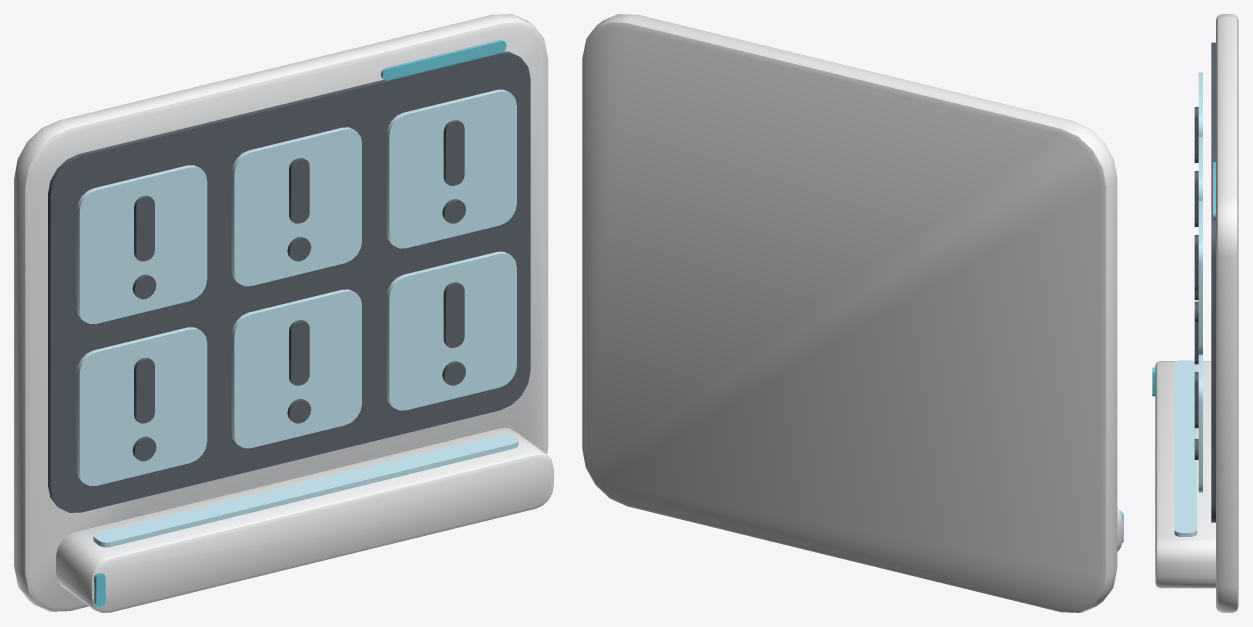
The model's file is SM_IncHoloPanel.fbx.
The picture shows the model from 3 angles, left to right: view 1: azimuth 30°, elevation 25°; view 2: azimuth 150°, elevation 25°; view 3: azimuth 270°, elevation 25°; orthographic projection. The views are drawn at different scales.
Visible parts, largest first — view 1: IncHoloPanel, Cell0, Cell3, Cell2, Cell5, Cell1, Cell4, Warn2, Warn5, Warn0, Warn3, Warn1 (+1 smaller); view 2: IncHoloPanel; view 3: IncHoloPanel, Cell2, Cell5, Warn2, Warn5, Cell0, Cell1, Warn0, Warn1, Warn4.
Part boxes in pixels (x1=…): IncHoloPanel: x1=14, y1=14, x2=553, y2=612; Cell0: x1=76, y1=165, x2=207, y2=323; Cell3: x1=76, y1=327, x2=207, y2=486; Cell2: x1=386, y1=89, x2=516, y2=248; Cell5: x1=386, y1=251, x2=516, y2=410; Cell1: x1=231, y1=127, x2=361, y2=286; Cell4: x1=231, y1=289, x2=361, y2=448; Warn2: x1=442, y1=120, x2=465, y2=223; Warn5: x1=442, y1=282, x2=465, y2=385; Warn0: x1=132, y1=195, x2=156, y2=299; Warn3: x1=132, y1=357, x2=156, y2=461; Warn1: x1=287, y1=158, x2=311, y2=261; IncHoloPanel: x1=582, y1=14, x2=1123, y2=612; IncHoloPanel: x1=1152, y1=14, x2=1238, y2=612; Cell2: x1=1198, y1=200, x2=1202, y2=355; Cell5: x1=1198, y1=355, x2=1202, y2=492; Warn2: x1=1194, y1=235, x2=1198, y2=322; Warn5: x1=1194, y1=372, x2=1198, y2=459; Cell0: x1=1198, y1=72, x2=1202, y2=136; Cell1: x1=1198, y1=136, x2=1202, y2=200; Warn0: x1=1194, y1=107, x2=1198, y2=162; Warn1: x1=1194, y1=171, x2=1198, y2=226; Warn4: x1=1194, y1=323, x2=1198, y2=364.
Bounding box in the file's own units: 0.68 × 0.6 × 0.114.
